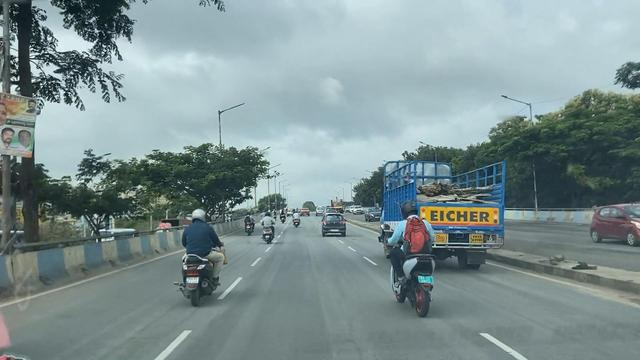LMV: (377, 209, 438, 308), (183, 209, 222, 302), (260, 209, 278, 245), (323, 211, 345, 235)
